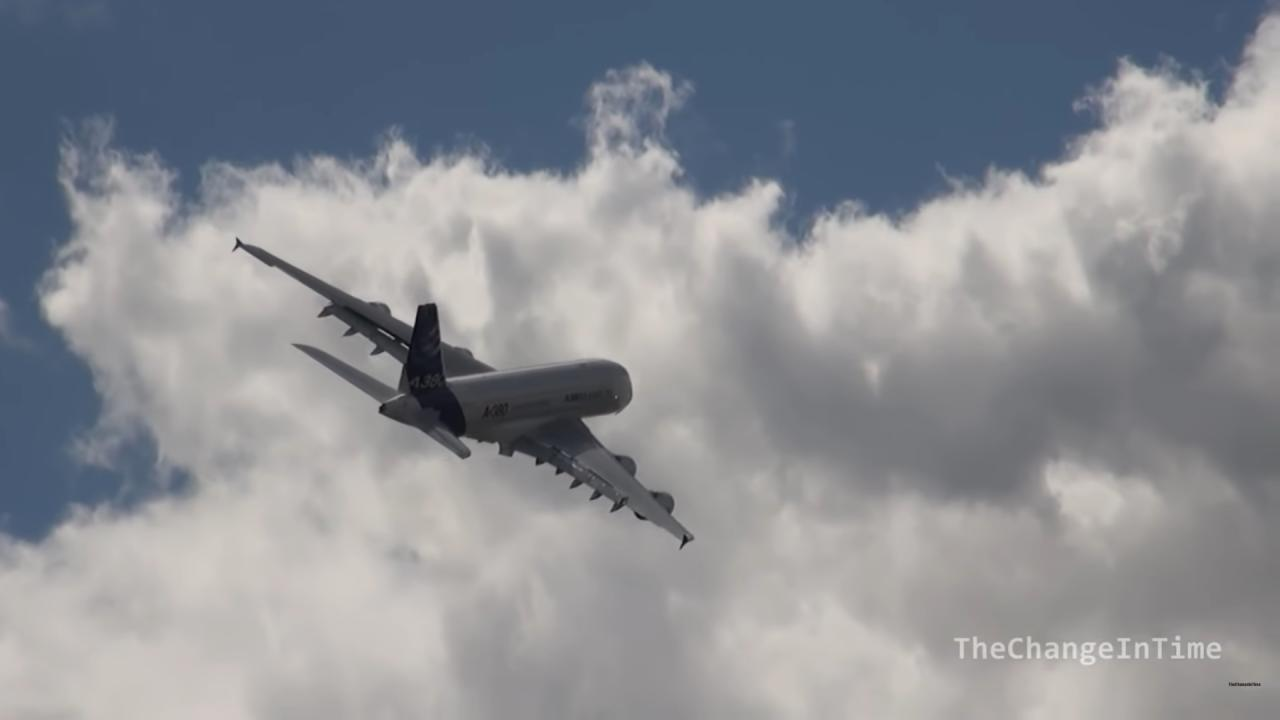Airplane: (221, 225, 704, 558)
